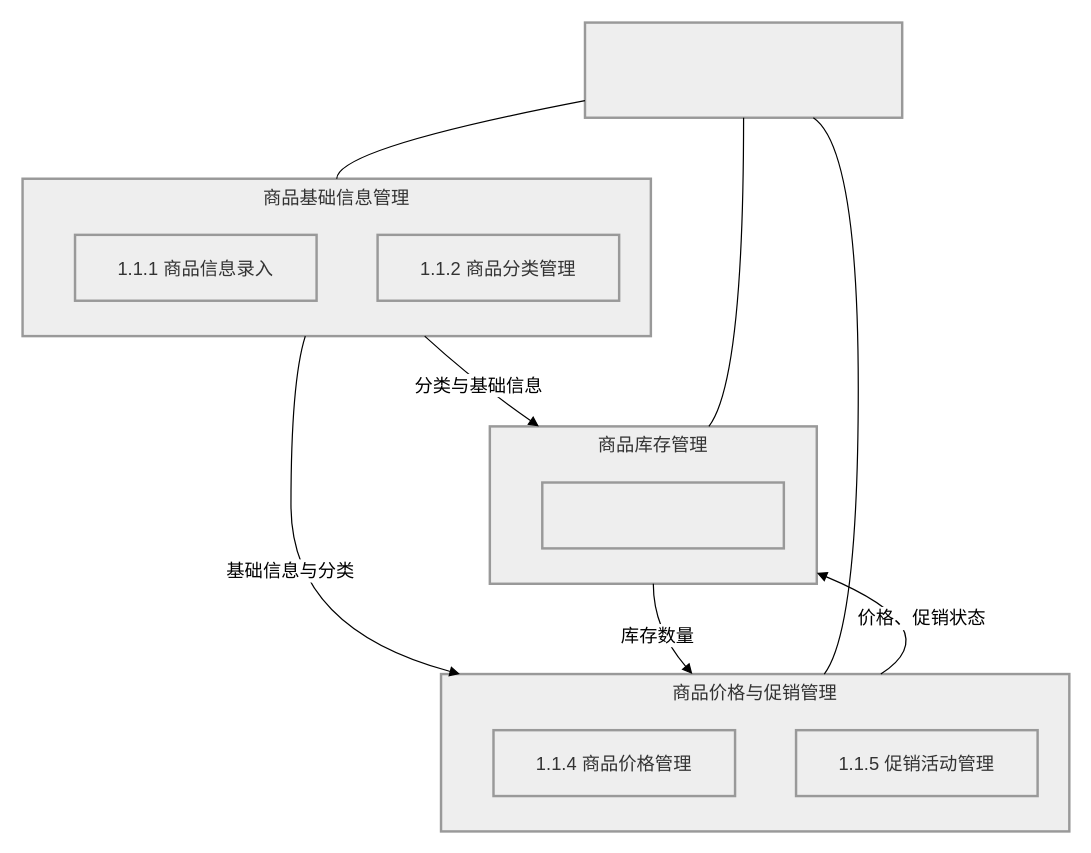
Image size: 1091x853. Some labels were removed from this diagram. The shapes that lost their labels are listed below. From the top down, each one's centre as x and y in pixels, then its label:
At pixel 743 69: "商品管理模块".
At pixel 662 515: "1.1.3 商品库存管理".
